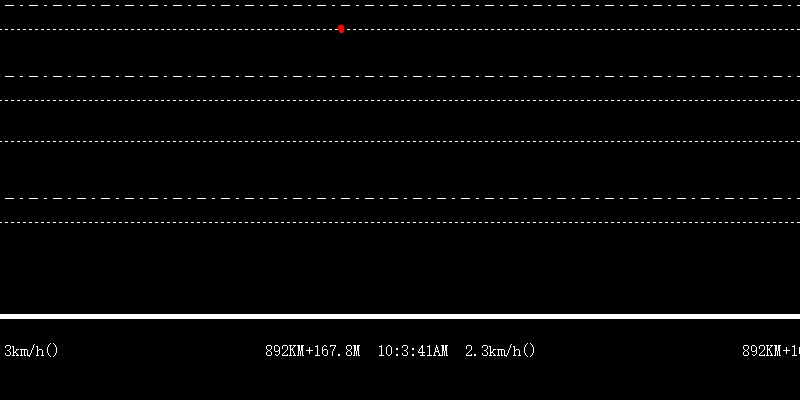face_1: (334, 22, 346, 33)
